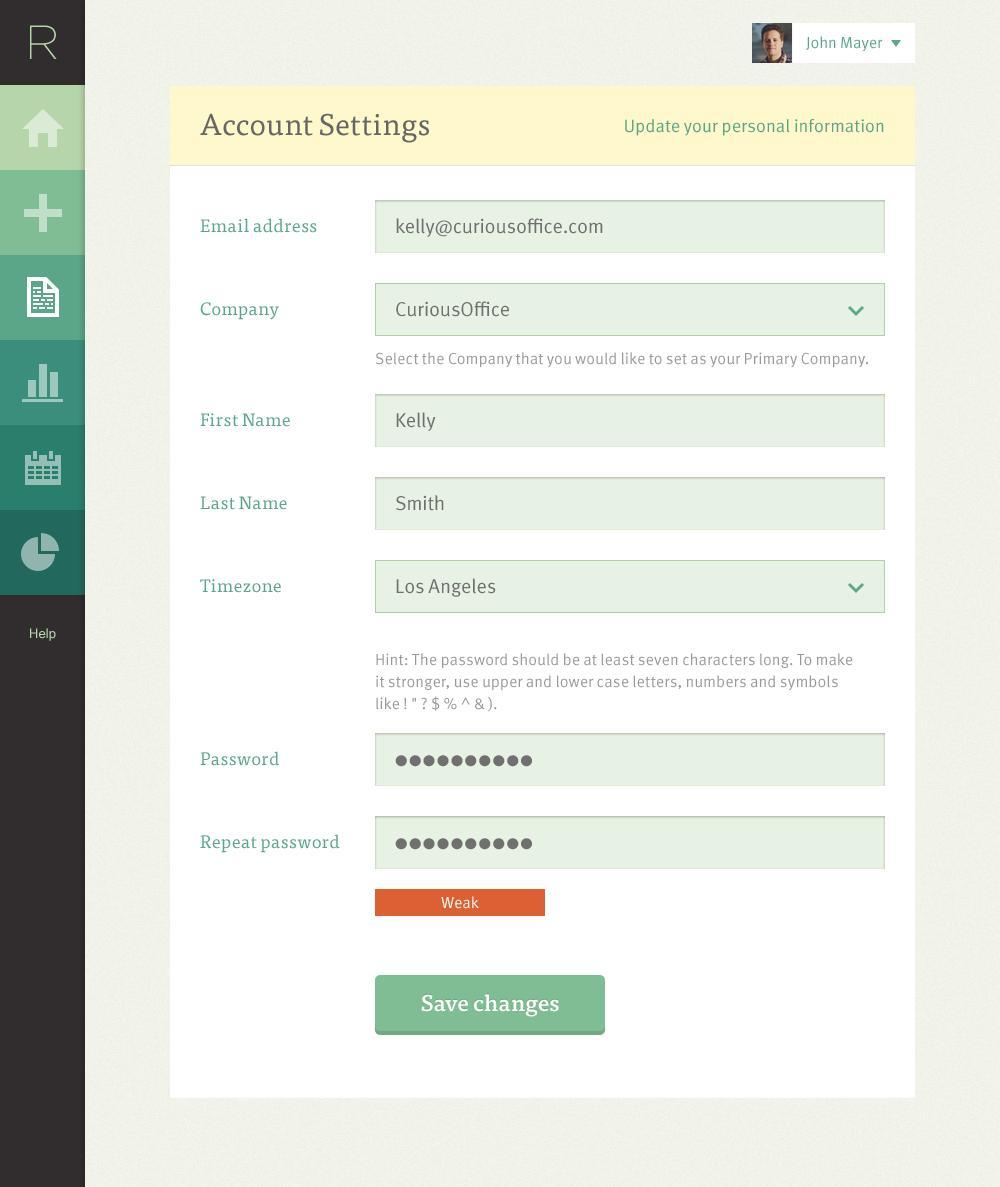button: (375, 975, 607, 1035)
dropdown: (373, 279, 892, 342), (373, 558, 889, 615), (795, 24, 917, 69)
icon: (21, 191, 66, 238), (21, 107, 65, 155), (24, 274, 64, 325), (23, 362, 68, 406), (20, 532, 63, 574), (21, 448, 65, 488)
input: (374, 194, 889, 258), (373, 392, 889, 451), (373, 475, 889, 534), (376, 734, 887, 789), (376, 817, 886, 870)
label: (376, 890, 548, 917), (193, 825, 347, 854), (201, 217, 325, 239), (196, 490, 293, 515), (196, 576, 287, 601), (198, 297, 289, 322), (199, 408, 295, 431), (196, 750, 282, 774)
